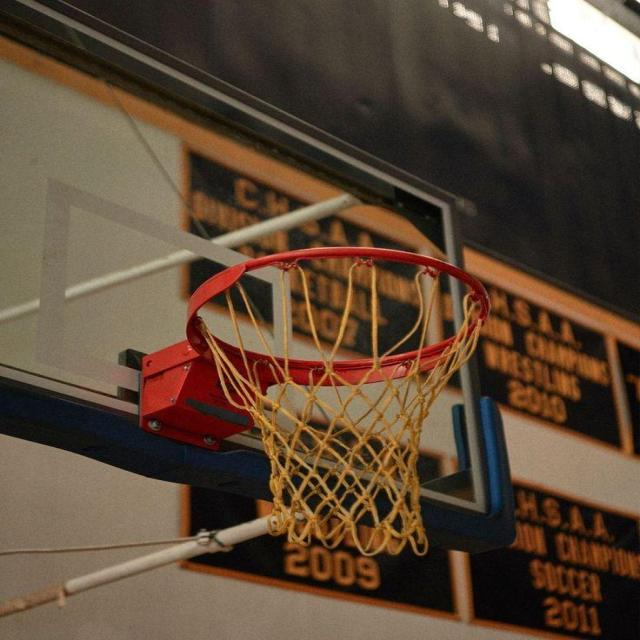hoop: (180, 238, 485, 551)
